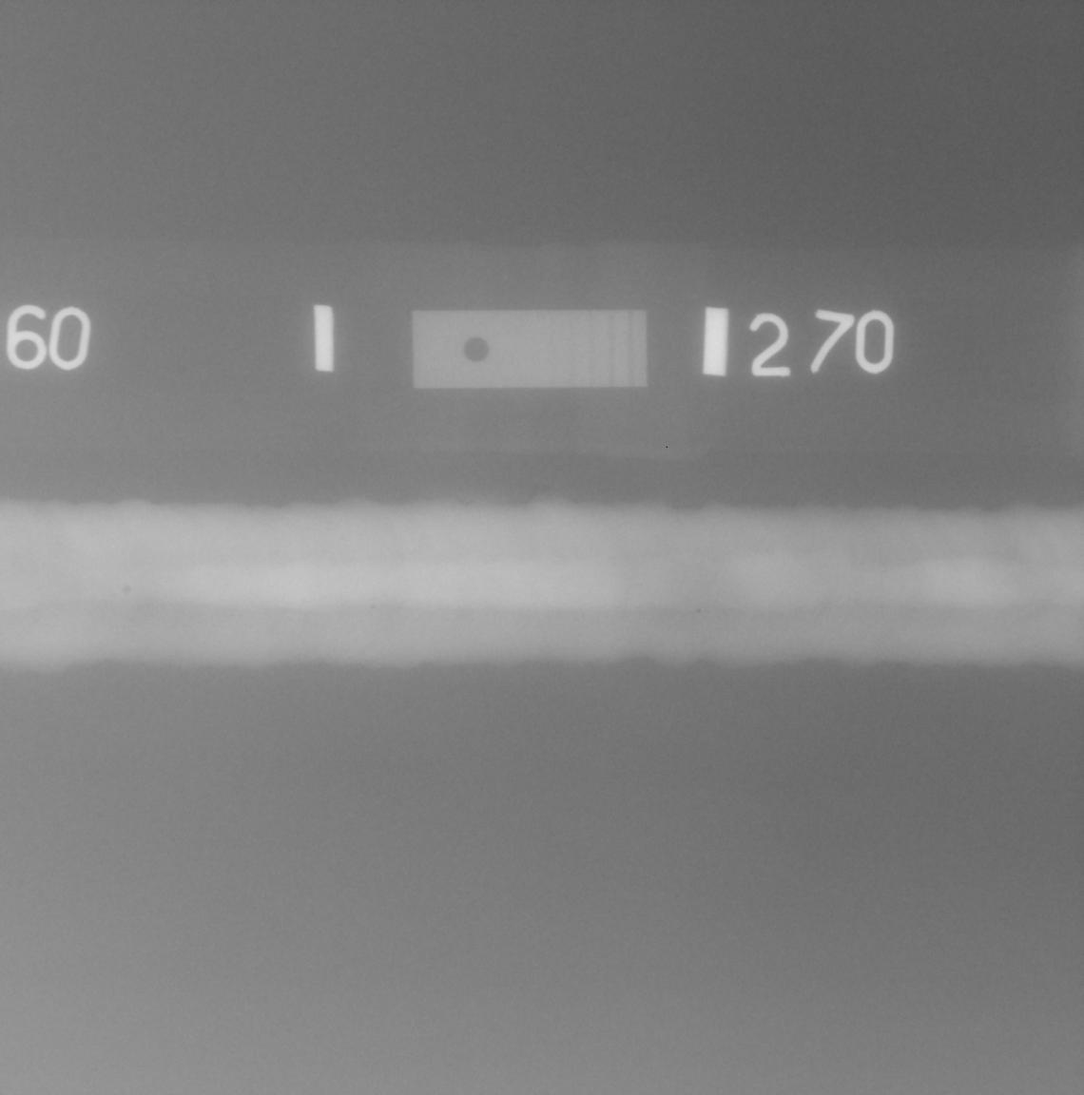Pore/Porosity: (123, 586, 130, 594), (369, 604, 375, 609), (696, 609, 701, 613)
Reference Standard 1: (412, 310, 648, 388)
